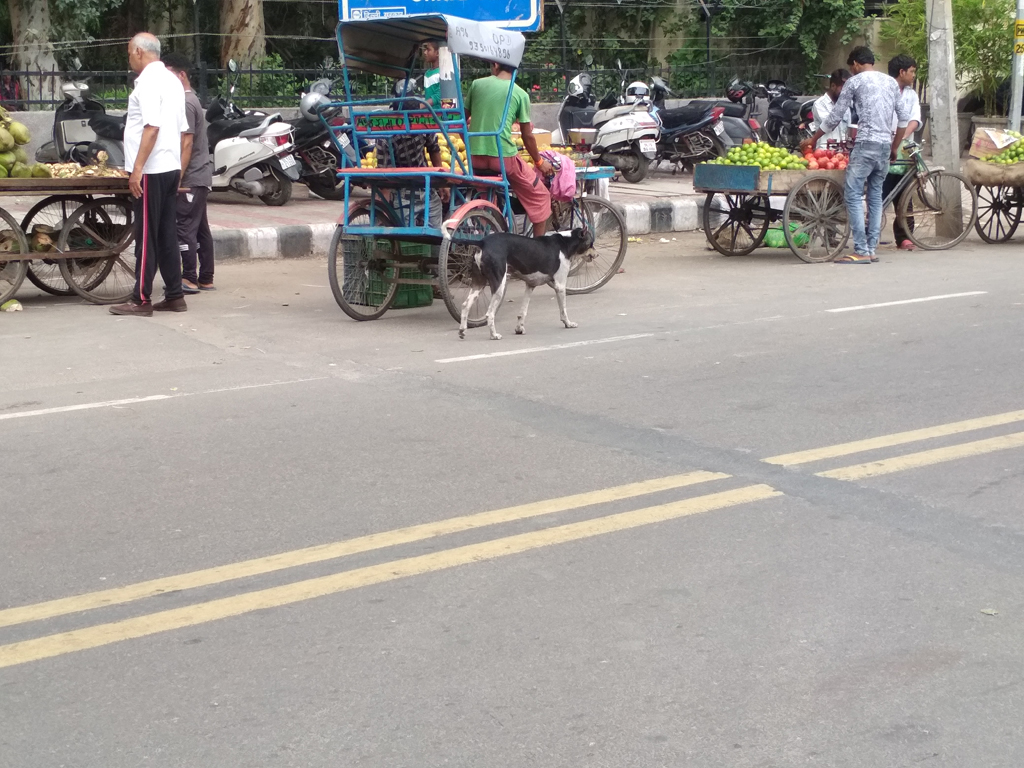dog: (440, 219, 600, 339)
